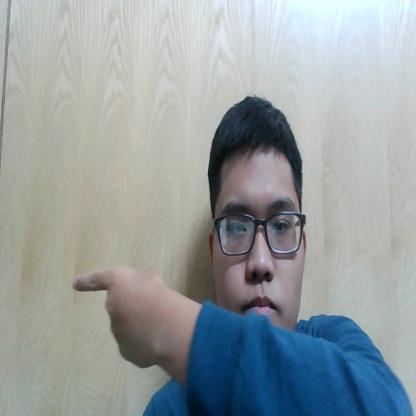right: (60, 255, 173, 386)
